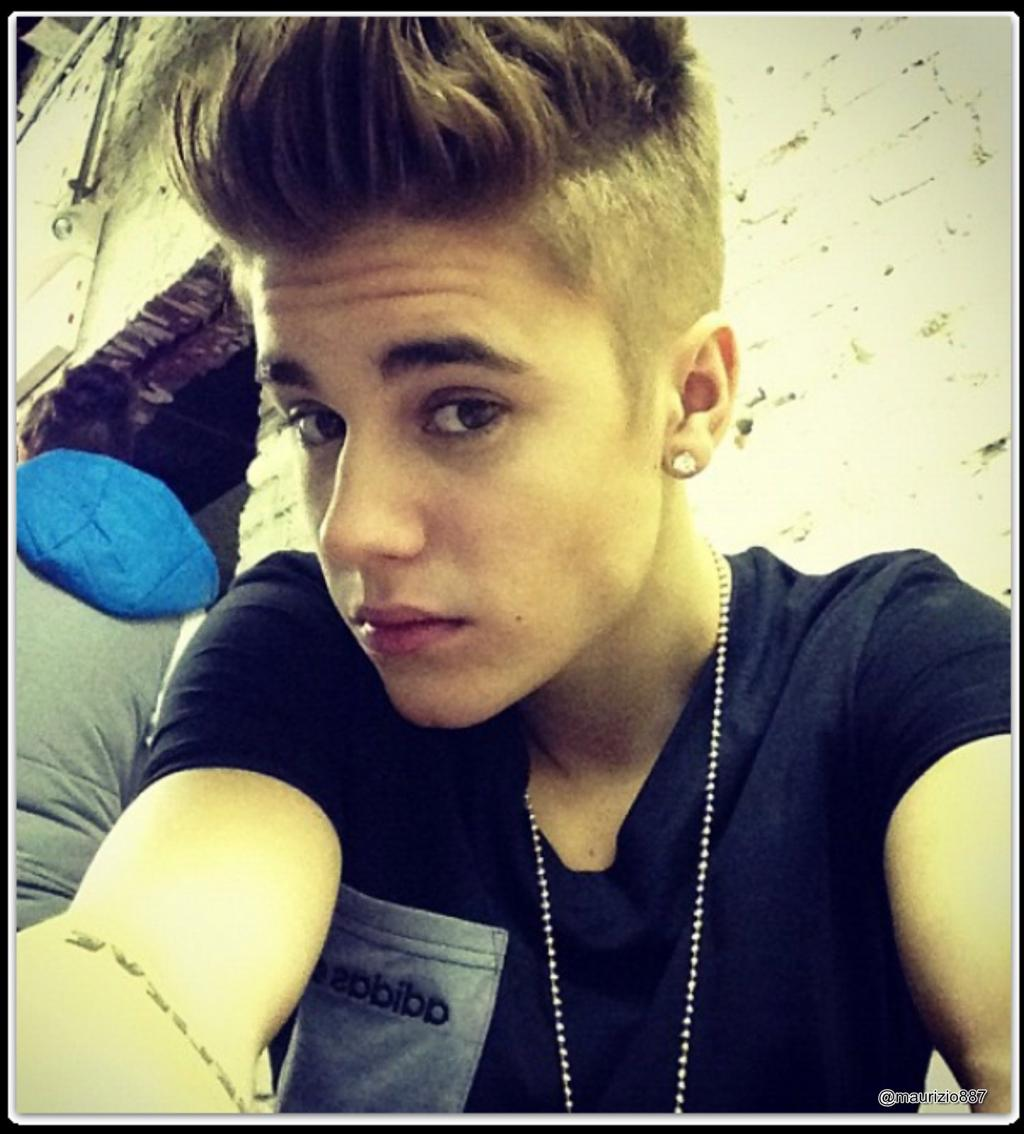face: (248, 245, 659, 729)
